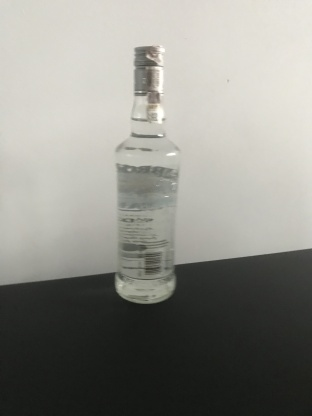nakretka: (131, 43, 166, 96)
